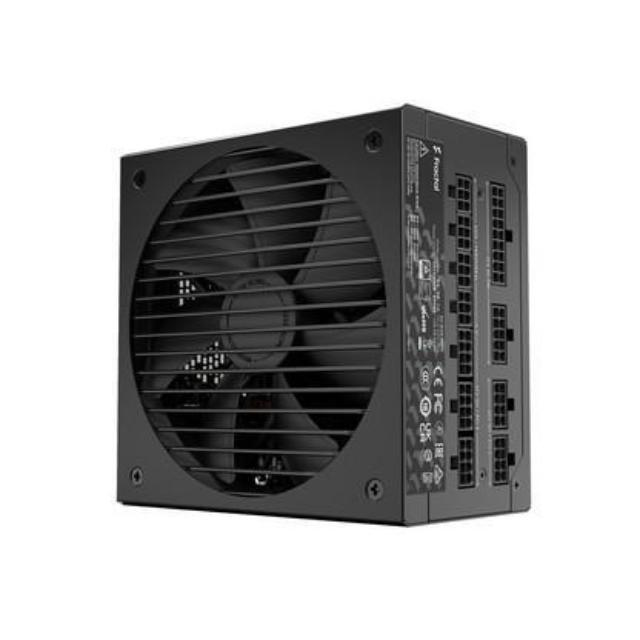PSU: (91, 94, 538, 534)
